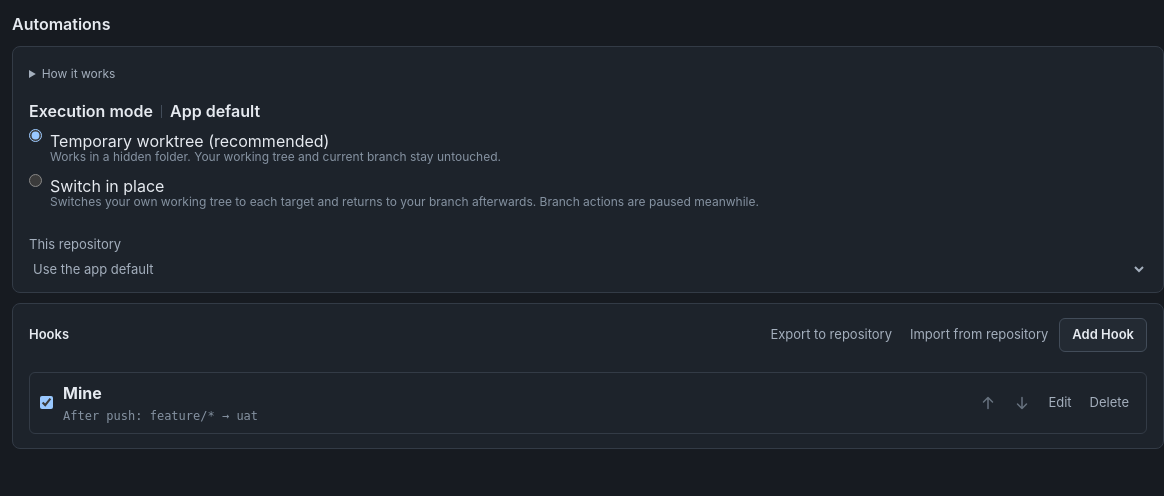
Test: exports the rules to the repository file and says where
The width and height of the screenshot is (1164, 496).
Expected: the text "Mine" is shown, [63,382,102,402]
Click the button "Export to repository": (831, 334) [763,318,899,352]
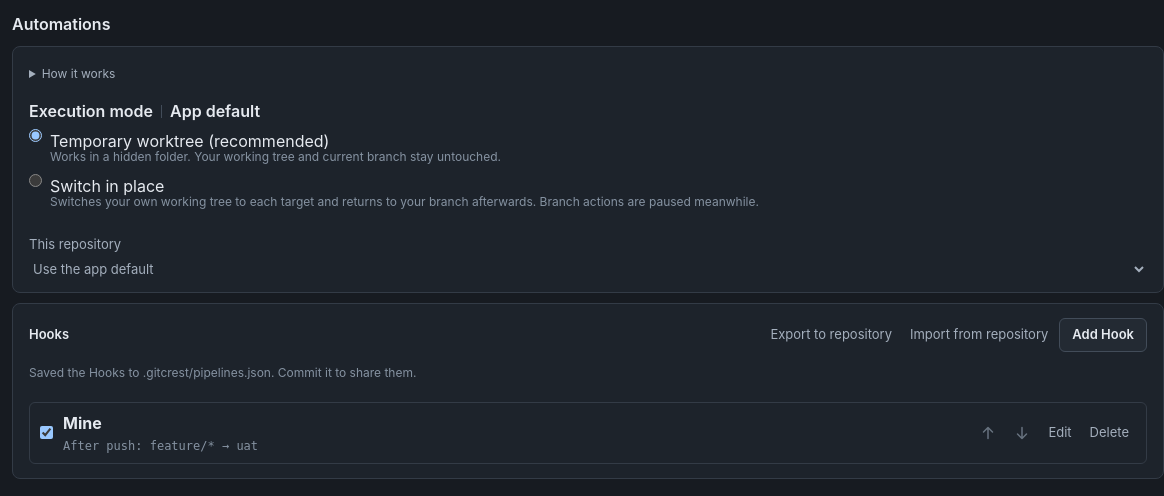
Expected: the message shows ".gitcrest/pipelines.json", [29,364,416,380]
